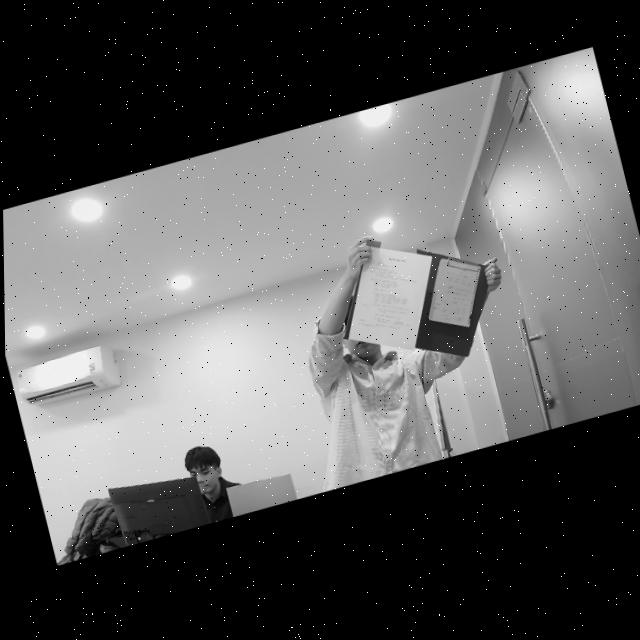document: (348, 246, 432, 349), (427, 258, 481, 326)
face: (185, 448, 227, 502)
